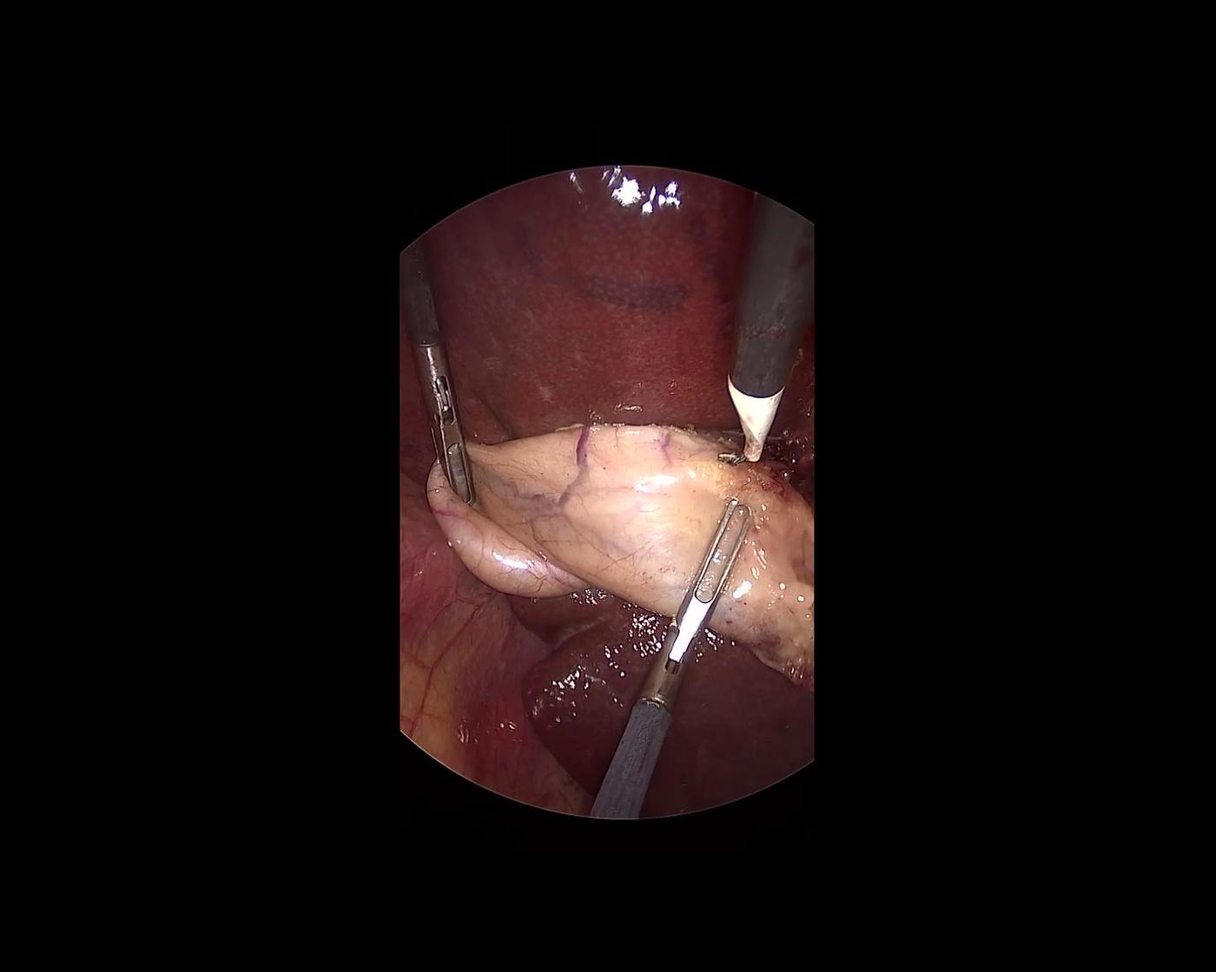Cautery: (663, 192, 845, 475)
Forceps: (588, 488, 759, 833), (386, 236, 480, 512)
Gallbladder: (408, 399, 844, 691)
Liver: (369, 145, 828, 486), (452, 560, 840, 863)
